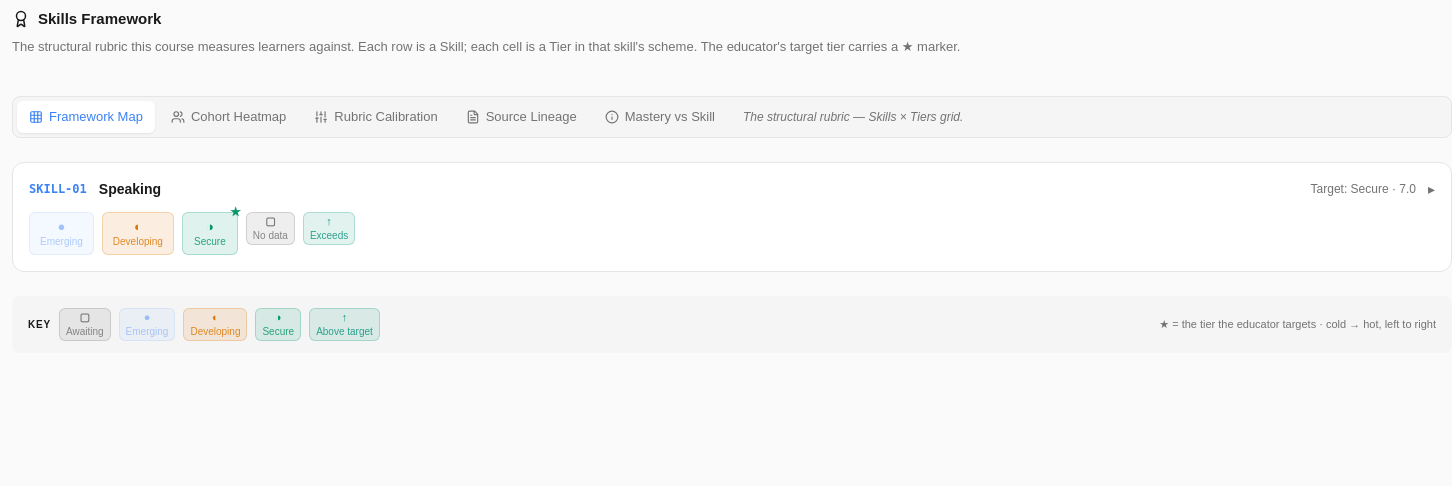
Test case: <CourseSkillsTab> cohort cell drill › empty bucket shows the 'No learners in this tier yet' copy
Expected: the text "Framework Map" is shown, 49,107 -> 143,126
Click the tab "Cohort Heatmap" at (229, 117), box 159,101 -> 298,132
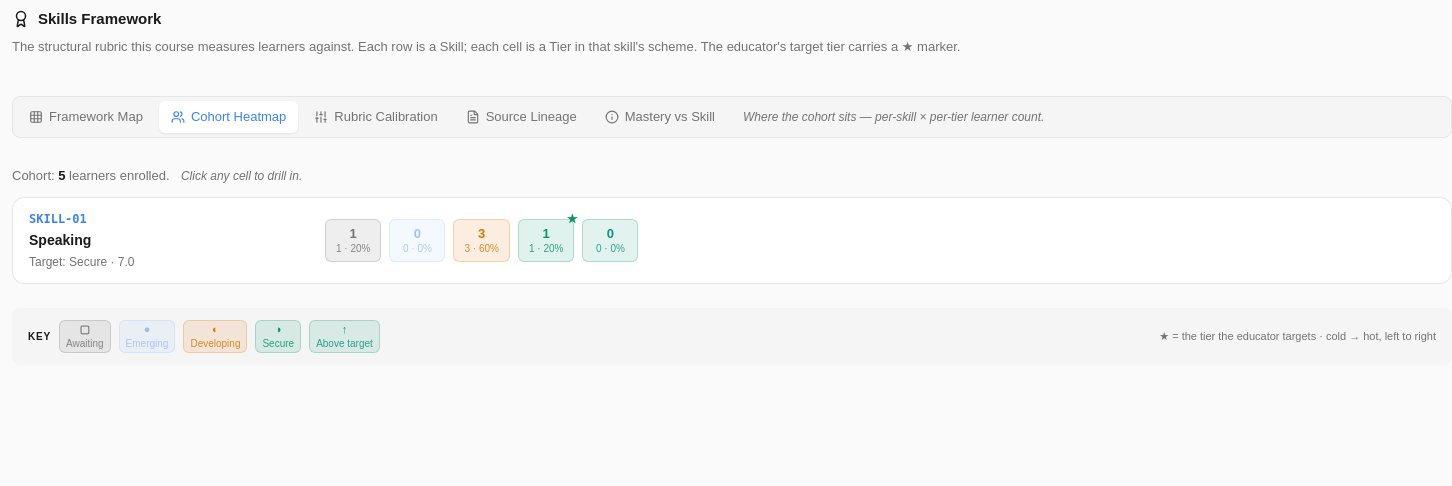
Result: the text "Click any cell to drill in." is shown at 178,168 -> 302,182
Click the button "1 ★ 1 · 20%" at (546, 240), box 518,219 -> 574,262
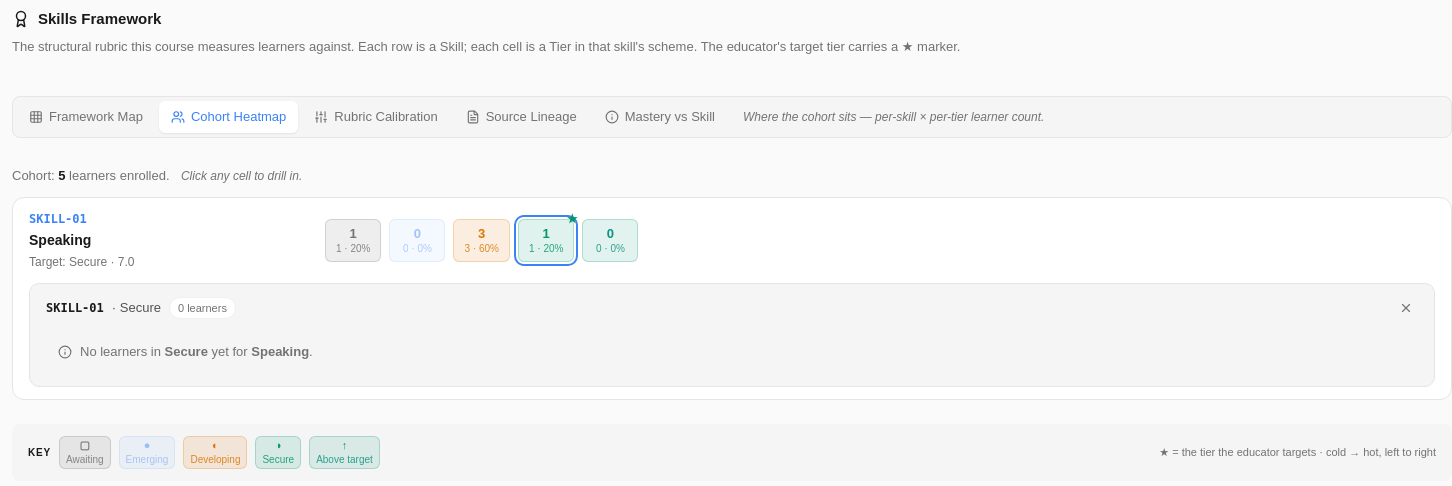
Result: the text "No learners in Secure yet for Speaking." is shown at 80,342 -> 313,362
